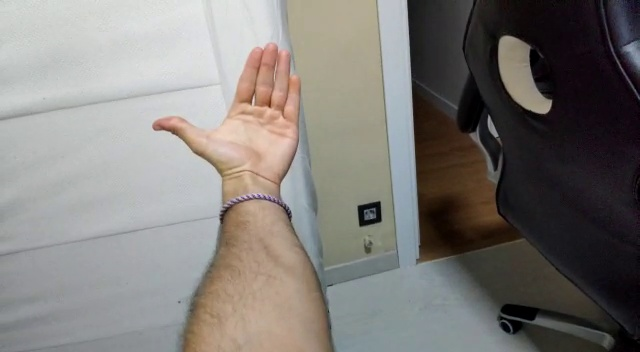Palm: (149, 35, 309, 184)
